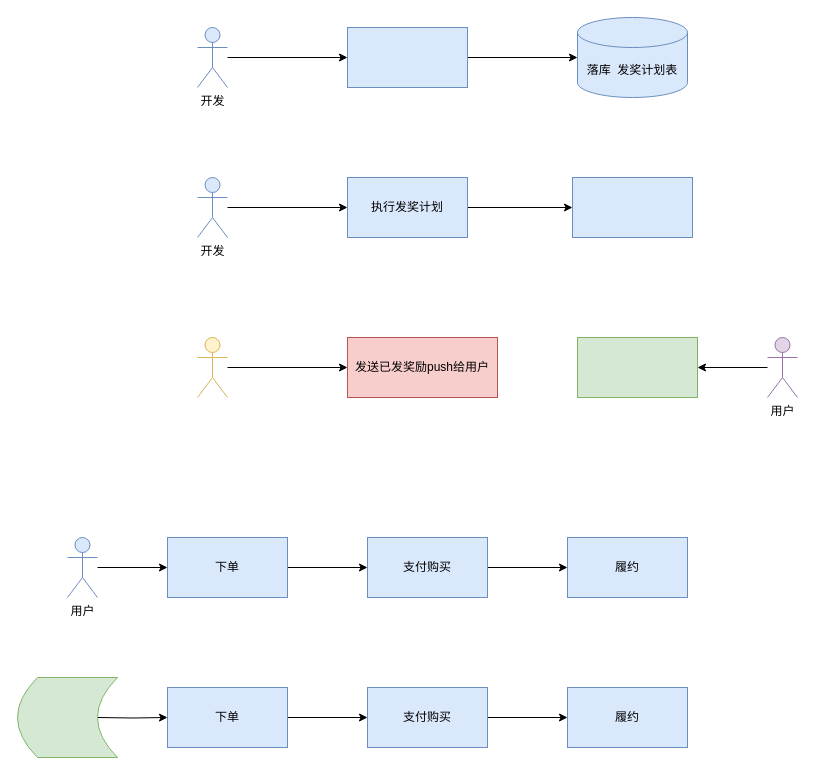
Some shapes in this 815 by 775 pixel diagram are drawn without their labels. Each missing label, with the centre of its shape:
"创建发奖计划" goes at (x=407, y=57).
"点击push打开礼品卡mycard页面" goes at (x=637, y=367).
"给用户发放礼品卡" goes at (x=632, y=207).
"脚本" goes at (x=67, y=717).
"运营" goes at (x=212, y=367).
